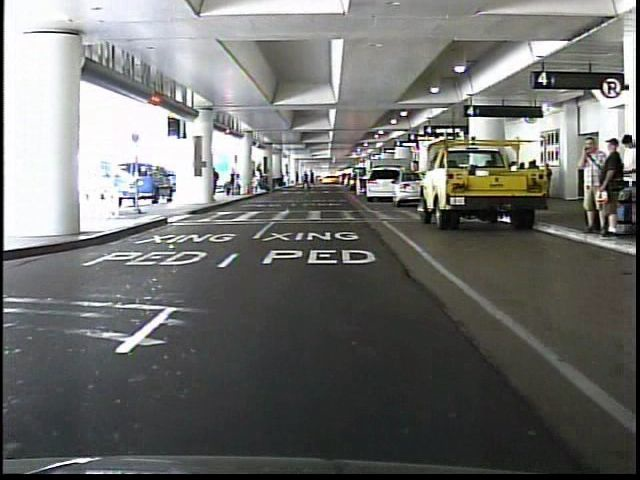person: (573, 135, 602, 235)
